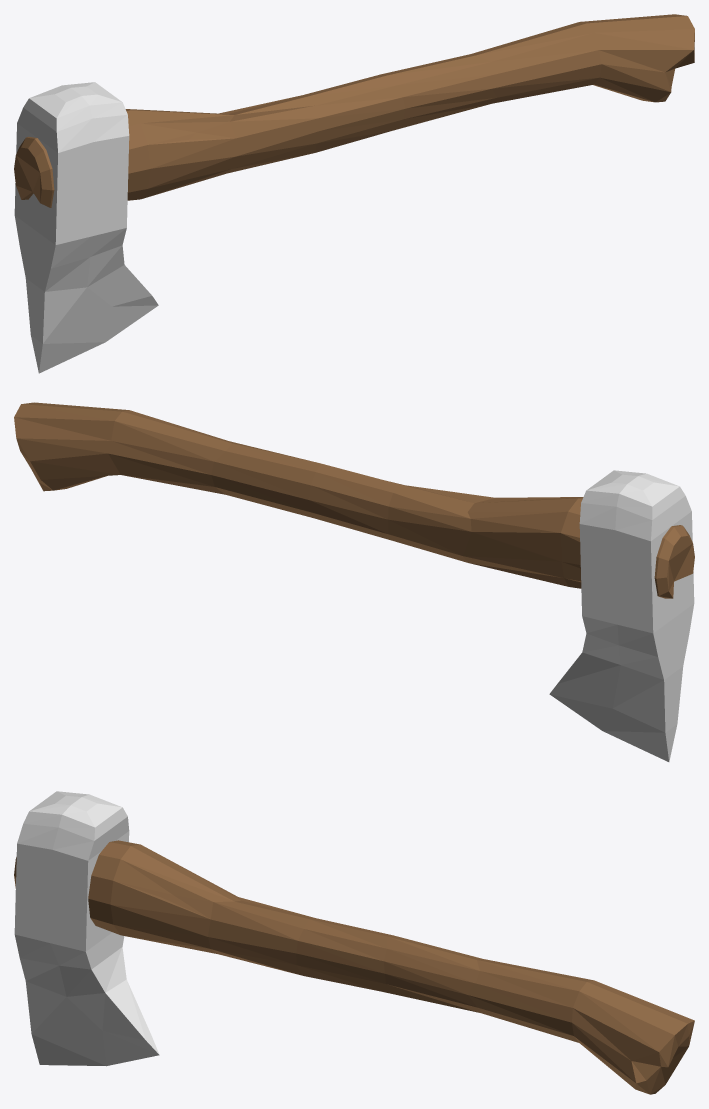
Rendered from axe3.0 (1) (1).fbx.
The picture shows the model from 3 angles, top to bottom: view 1: azimuth 30°, elevation 25°; view 2: azimuth 150°, elevation 25°; view 3: azimuth 330°, elevation 25°; orthographic projection.
Visible parts, largest first — view 1: Cube; view 2: Cube; view 3: Cube.
Part boxes in pixels (x1=…): Cube: x1=14, y1=14, x2=694, y2=373; Cube: x1=14, y1=402, x2=694, y2=761; Cube: x1=14, y1=791, x2=694, y2=1094.
Size of the model in its own units: 787 by 311 by 84.86.
